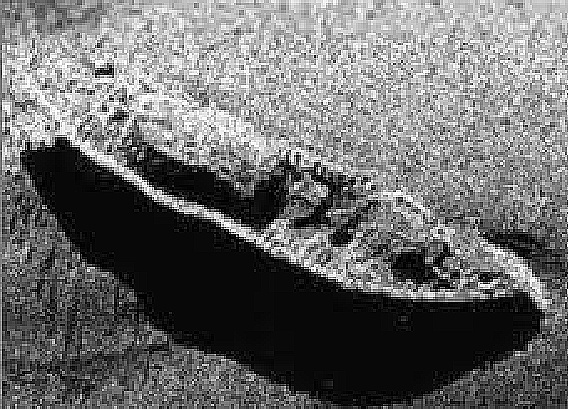ship: (55, 69, 545, 309)
